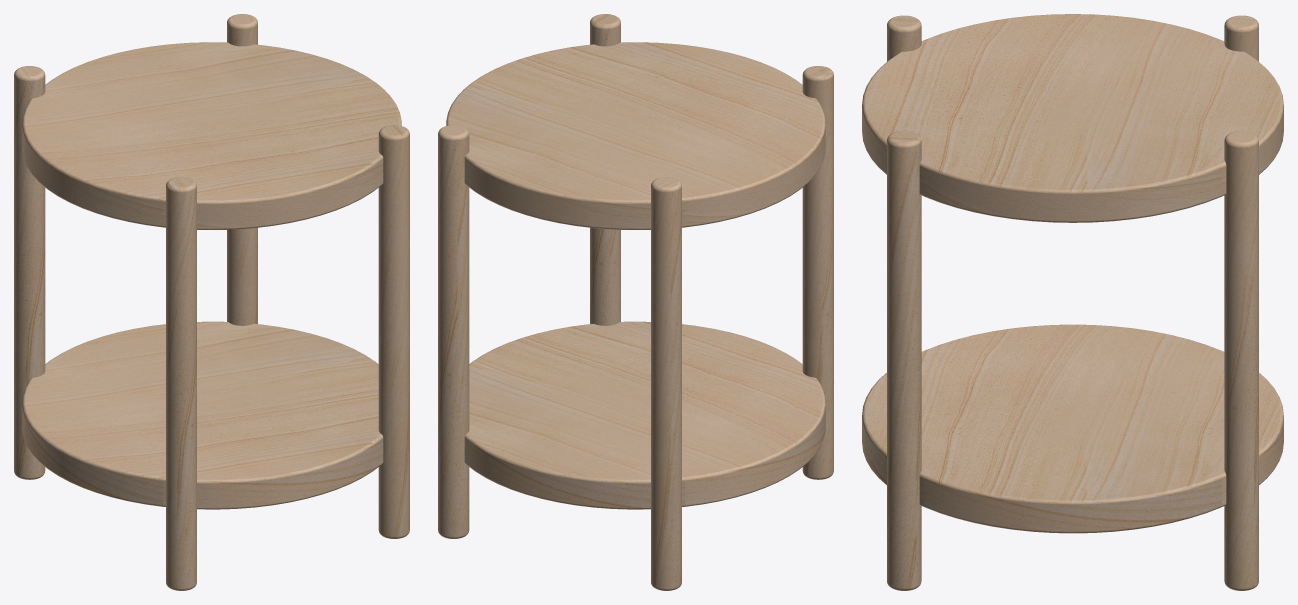
The model's file is table.glb.
The picture shows the model from 3 angles, left to right: view 1: azimuth 30°, elevation 25°; view 2: azimuth 150°, elevation 25°; view 3: azimuth 270°, elevation 25°; orthographic projection. The views are drawn at different scales.
Parts seen in each view (by area): view 1: Cylinder (×2), Cylinder 1 (×4); view 2: Cylinder (×2), Cylinder 1 (×4); view 3: Cylinder (×2), Cylinder 1 (×4).
Part boxes in pixels (x1,y1,x2,y2): Cylinder (×2): (22, 42, 401, 509); Cylinder 1 (×4): (14, 14, 409, 590); Cylinder (×2): (446, 42, 825, 509); Cylinder 1 (×4): (438, 14, 833, 590); Cylinder (×2): (862, 14, 1283, 533); Cylinder 1 (×4): (887, 15, 1258, 590).
Size of the model in its own units: 0.1232 by 0.1445 by 0.1232.
2 materials, 2 textured.
